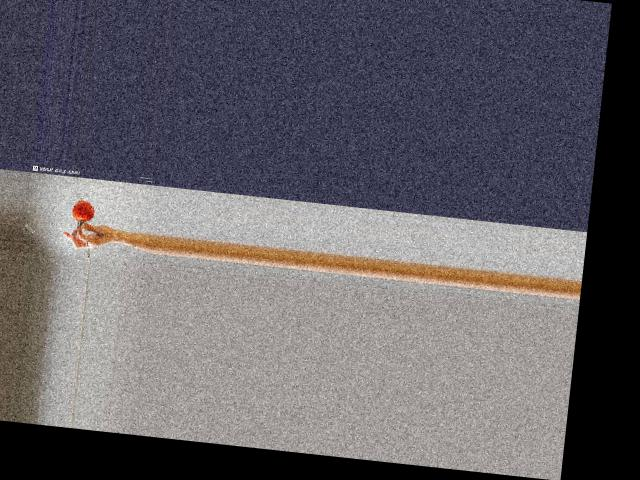tomato: (72, 199, 96, 221)
